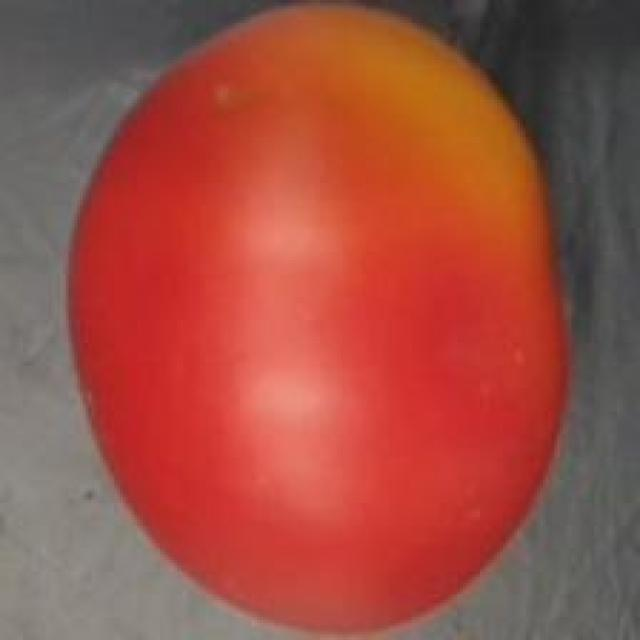overripe tomato: (54, 0, 586, 640)
